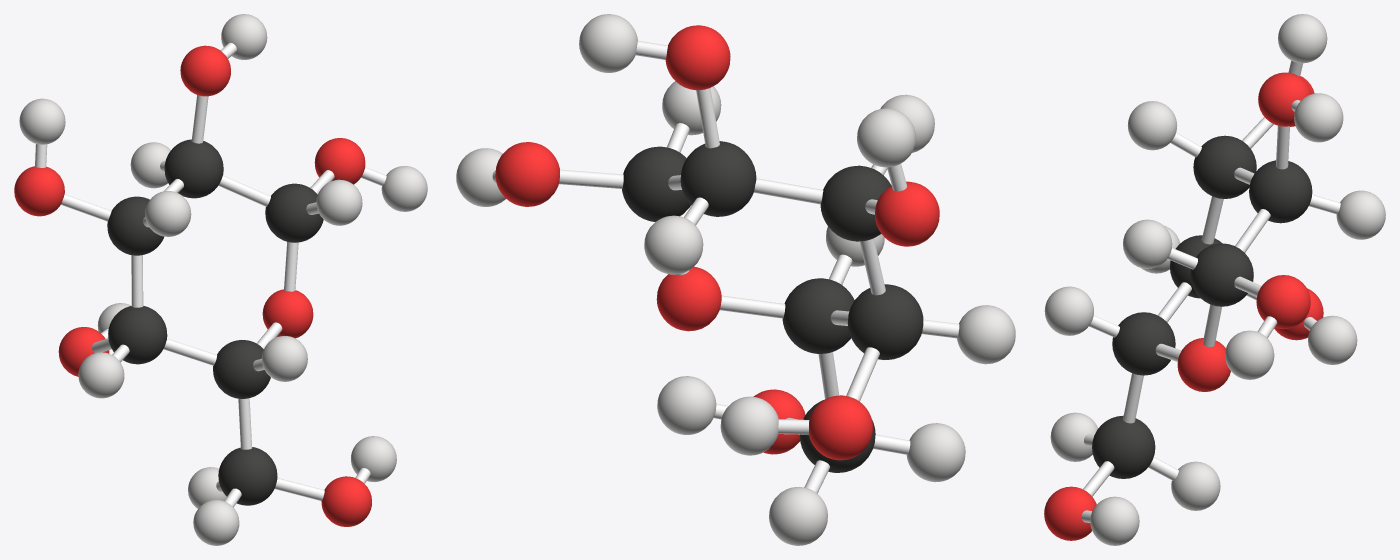
File: rutang.FBX
The picture shows the model from 3 angles, left to right: view 1: azimuth 30°, elevation 25°; view 2: azimuth 150°, elevation 25°; view 3: azimuth 270°, elevation 25°; orthographic projection. The views are drawn at different scales.
Visible parts, largest first — view 1: Sphere139, Sphere135, Sphere137, Sphere134, Sphere138, Sphere136, Sphere121, Sphere122, Sphere117, Sphere119, Sphere120, Sphere127 (+19 smaller); view 2: Sphere135, Sphere137, Sphere138, Sphere134, Sphere136, Sphere120, Sphere121, Sphere118, Sphere122, Sphere119, Sphere131, Sphere125 (+19 smaller); view 3: Sphere135, Sphere139, Sphere134, Sphere138, Sphere136, Sphere120, Sphere119, Sphere117, Sphere121, Sphere140, Sphere133, Sphere125 (+18 smaller).
Boxes of the visible parts, x1,y1,x2,y2 form: Sphere139: [218, 447, 277, 505]; Sphere135: [164, 139, 223, 198]; Sphere137: [108, 306, 167, 364]; Sphere134: [265, 183, 323, 242]; Sphere138: [213, 340, 270, 398]; Sphere136: [107, 196, 163, 255]; Sphere121: [180, 45, 230, 96]; Sphere122: [14, 166, 64, 216]; Sphere117: [321, 476, 371, 526]; Sphere119: [262, 289, 313, 338]; Sphere120: [314, 138, 365, 184]; Sphere127: [193, 500, 239, 545]; Sphere135: [680, 141, 756, 216]; Sphere137: [847, 284, 923, 359]; Sphere138: [782, 278, 854, 353]; Sphere134: [622, 146, 690, 221]; Sphere136: [820, 165, 891, 241]; Sphere120: [495, 142, 559, 206]; Sphere121: [665, 25, 730, 90]; Sphere118: [809, 395, 872, 460]; Sphere122: [875, 181, 939, 246]; Sphere119: [656, 266, 721, 331]; Sphere131: [857, 108, 915, 167]; Sphere125: [657, 376, 716, 434]; Sphere135: [1249, 160, 1312, 223]; Sphere139: [1092, 415, 1155, 478]; Sphere134: [1190, 243, 1253, 306]; Sphere138: [1112, 312, 1175, 375]; Sphere136: [1193, 135, 1256, 198]; Sphere120: [1256, 275, 1310, 329]; Sphere119: [1177, 338, 1230, 391]; Sphere117: [1044, 486, 1096, 540]; Sphere121: [1258, 72, 1311, 126]; Sphere140: [1225, 330, 1274, 379]; Sphere133: [1294, 93, 1343, 142]; Sphere125: [1090, 496, 1139, 545].
Bounding box in the file's own units: 117 × 123 × 83.03.
1 material, 1 textured.
